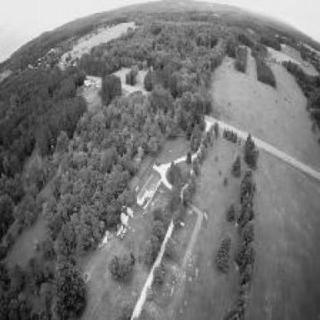other: (140, 150, 200, 317)
